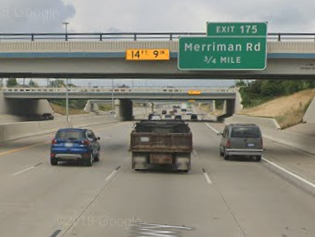1: (129, 49, 134, 60)
4: (133, 49, 141, 60)
9: (151, 49, 159, 59)
overheadsign: (125, 48, 170, 62)
